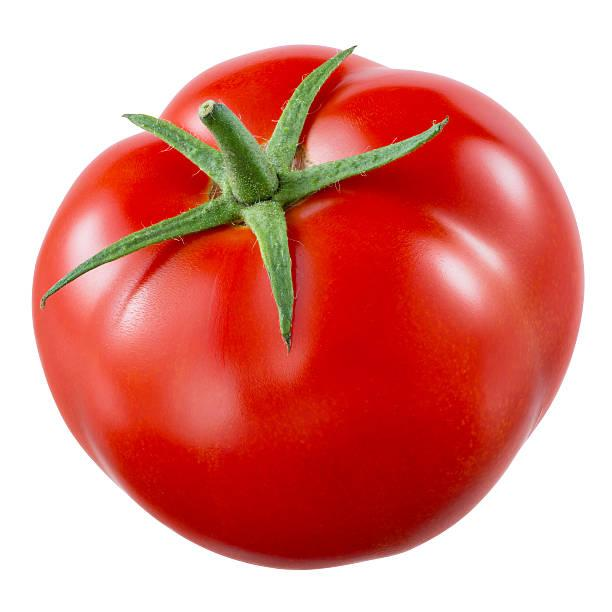Tomato: (30, 47, 586, 564)
